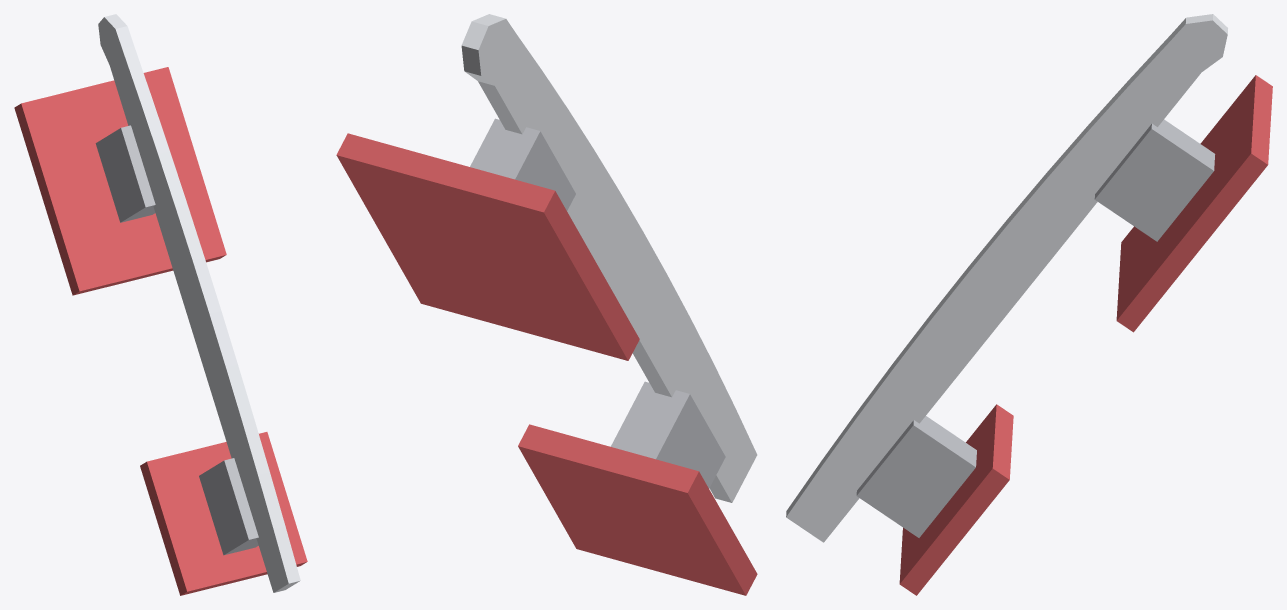
Rendered from Skate_L.glb.
3 renders of one model, left to right at view 1: azimuth 30°, elevation 25°; view 2: azimuth 150°, elevation 25°; view 3: azimuth 270°, elevation 25°, orthographic. The views are drawn at different scales.
Parts seen in each view (by area): view 1: Skate_ToePlate, Skate_Blade, Skate_HeelPlate, Skate_HeelPost, Skate_ToePost; view 2: Skate_ToePlate, Skate_Blade, Skate_HeelPlate, Skate_HeelPost, Skate_ToePost; view 3: Skate_Blade, Skate_ToePlate, Skate_HeelPost, Skate_ToePost, Skate_HeelPlate.
Part boxes in pixels (x1,y1,x2,y2): Skate_ToePlate: (14, 67, 226, 295); Skate_Blade: (98, 14, 300, 592); Skate_HeelPlate: (140, 432, 307, 595); Skate_HeelPost: (199, 458, 258, 555); Skate_ToePost: (95, 125, 155, 222); Skate_ToePlate: (336, 133, 639, 360); Skate_Blade: (461, 14, 757, 502); Skate_HeelPlate: (518, 424, 757, 595); Skate_HeelPost: (610, 381, 725, 488); Skate_ToePost: (470, 118, 575, 210); Skate_Blade: (786, 14, 1227, 542); Skate_ToePlate: (1116, 75, 1272, 332); Skate_HeelPost: (856, 416, 976, 537); Skate_ToePost: (1094, 119, 1215, 241); Skate_HeelPlate: (899, 404, 1013, 595).
Size of the model in its own units: 0.1103 by 0.3429 by 0.2768.
